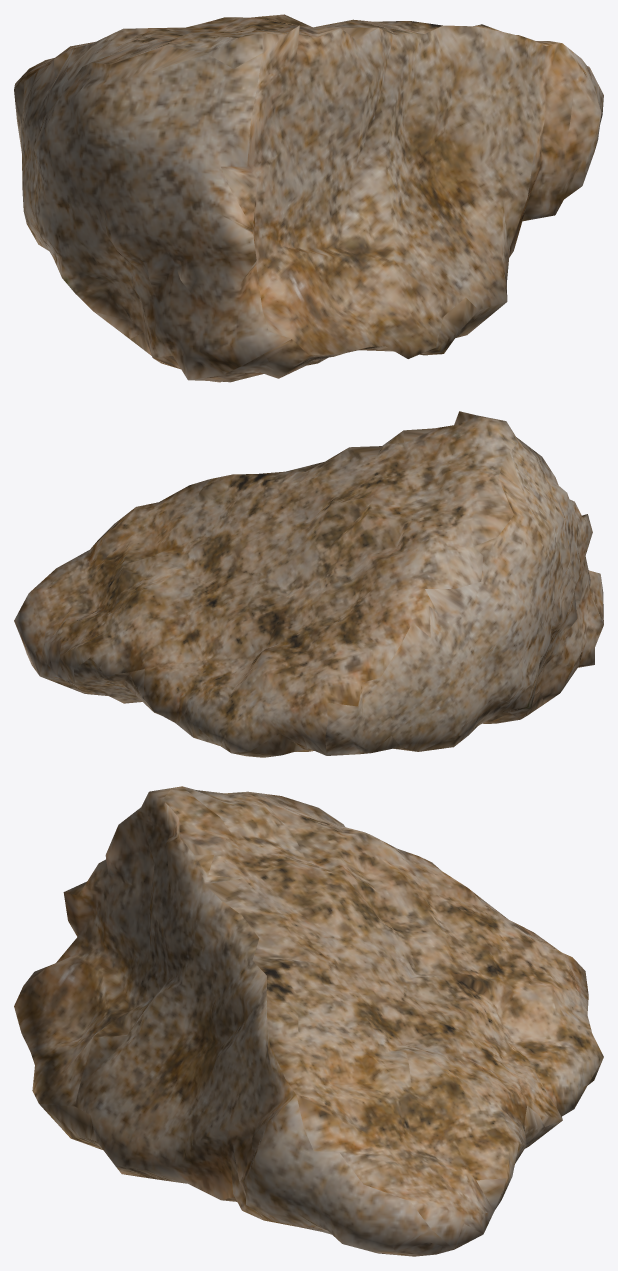
Rendered from aggregate-c.fbx.
3 views of the same model, one above another, from view 1: azimuth 30°, elevation 25°; view 2: azimuth 150°, elevation 25°; view 3: azimuth 270°, elevation 25° (orthographic). The views are drawn at different scales.
Parts seen in each view (by area): view 1: aggregate-c; view 2: aggregate-c; view 3: aggregate-c.
Part boxes in pixels (x1,y1,x2,y2): aggregate-c: (14, 14, 603, 382); aggregate-c: (14, 411, 603, 757); aggregate-c: (14, 786, 603, 1256).
Bounding box in the file's own units: 10.29 × 5.63 × 9.78.
Materials: 1 (1 with a texture image).
